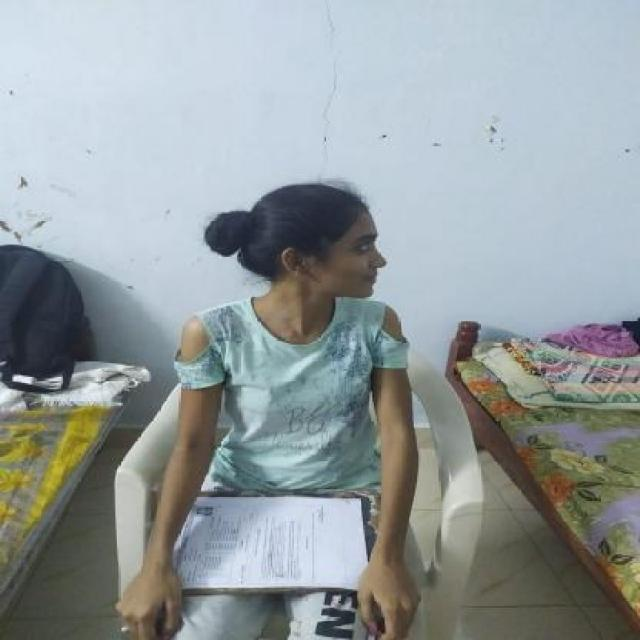cheating: (172, 165, 429, 414)
